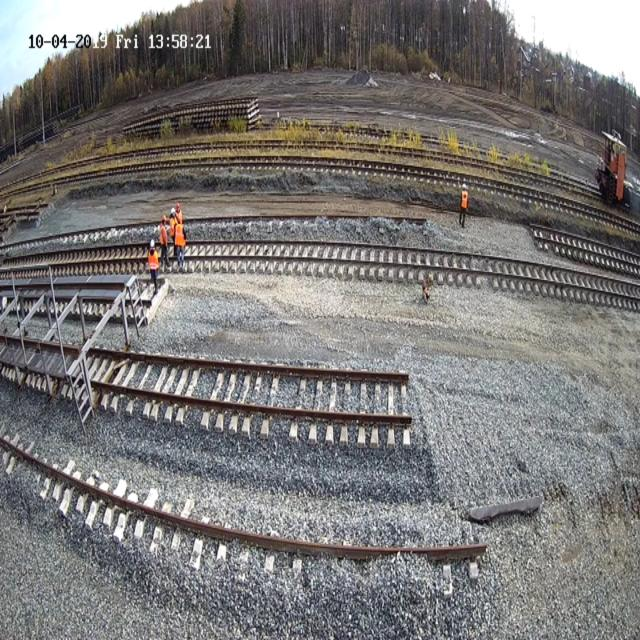Helmet: (150, 239, 154, 248), (171, 208, 176, 215), (462, 183, 467, 189)
Person: (156, 206, 192, 258), (148, 239, 160, 294), (459, 182, 468, 228)
